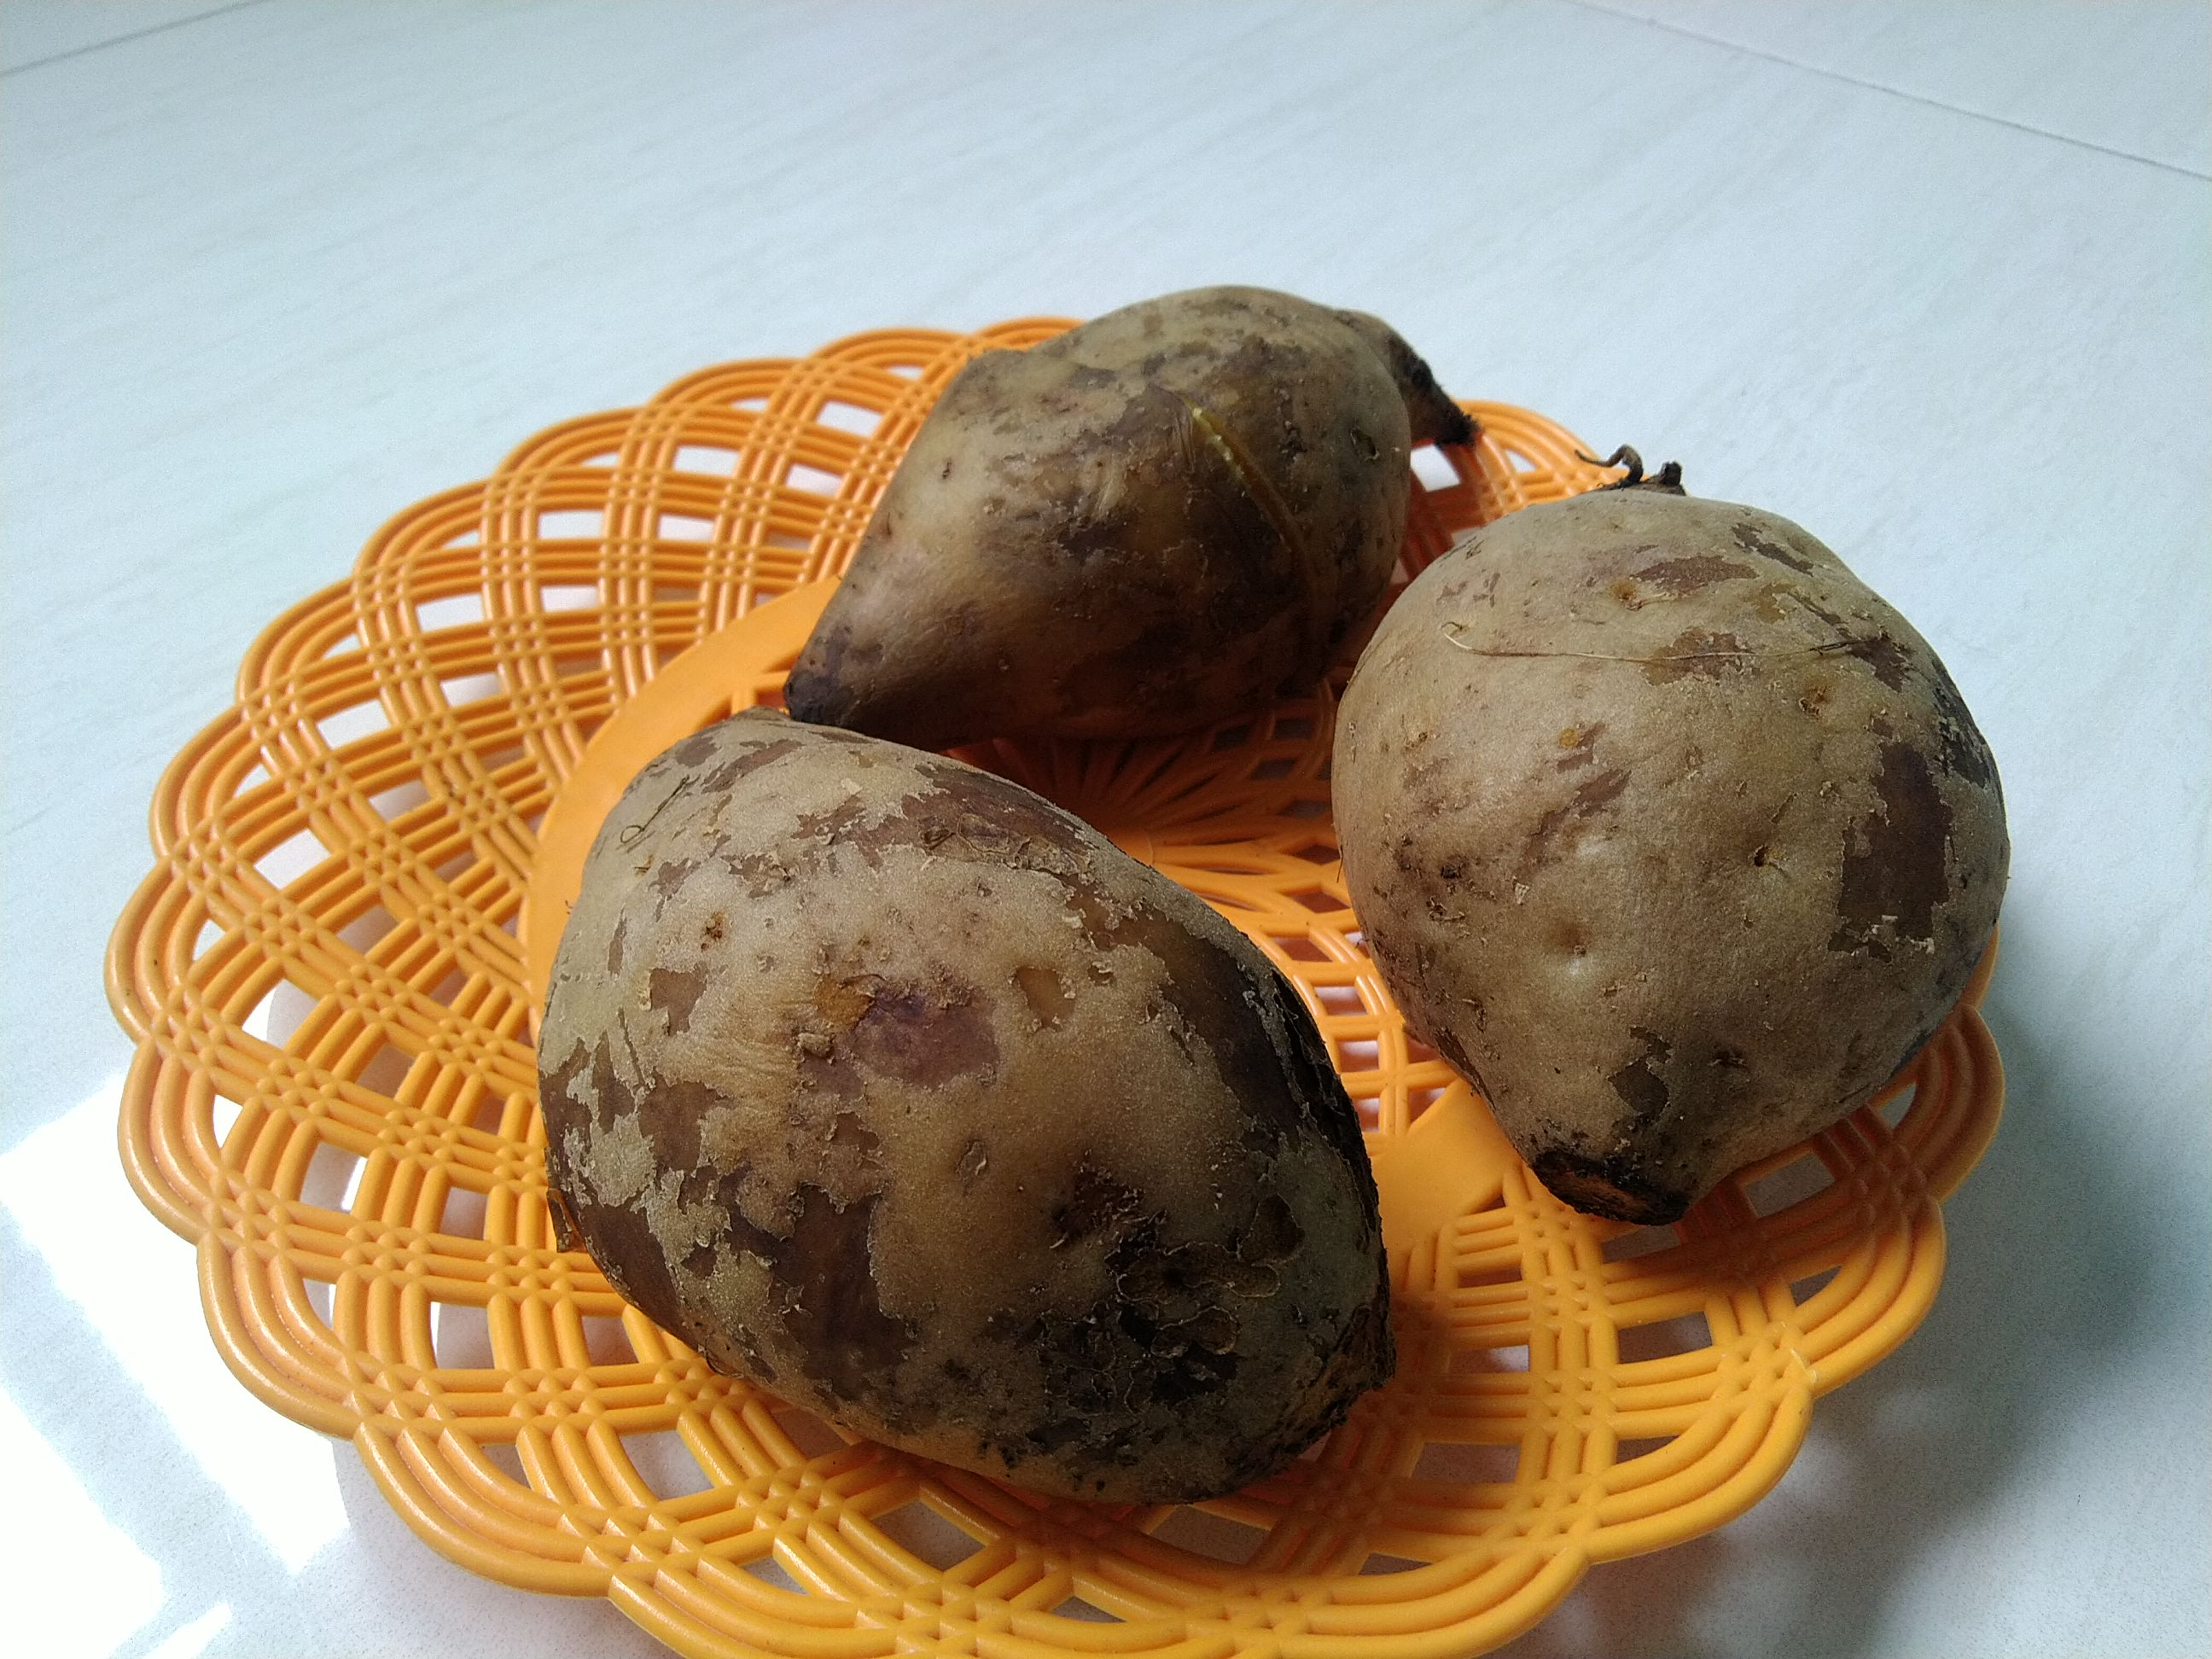ubi kuning: (507, 260, 2038, 1514), (531, 702, 1437, 1488), (1317, 462, 2027, 1230), (782, 288, 1510, 746)
